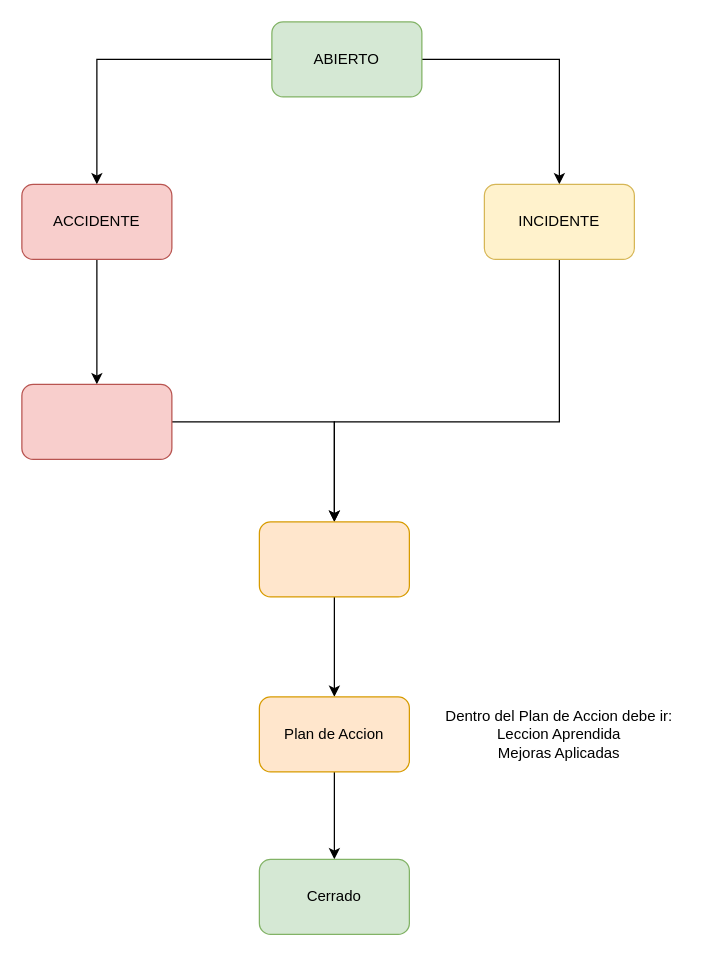
This 719x956 diagram has some shape labels left out. Here are the shapes that lost their labels. From the top down, the centre of each, then its label:
(96,421): REPORTE ARL *Obligatorio FURAT
(333,559): Investigacion
